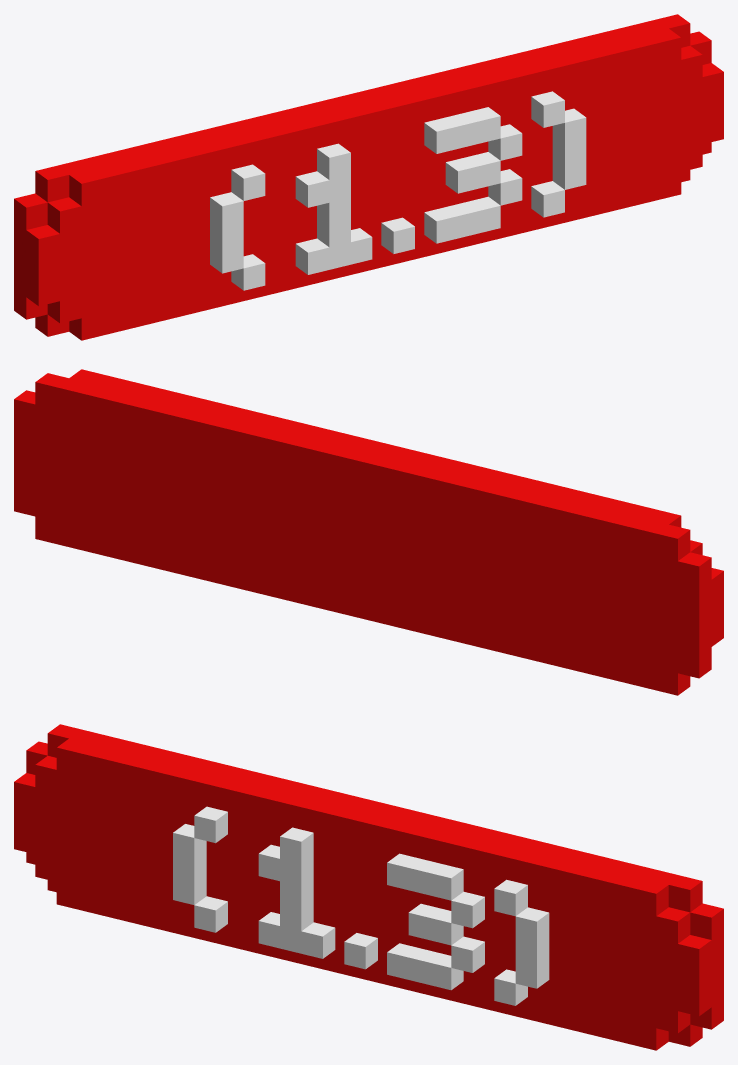
Rendered from lvl1.3.obj.
The picture shows the model from 3 angles, top to bottom: view 1: azimuth 30°, elevation 25°; view 2: azimuth 150°, elevation 25°; view 3: azimuth 330°, elevation 25°; orthographic projection.
Parts seen in each view (by area): view 1: lvl1.3; view 2: lvl1.3; view 3: lvl1.3.
Boxes of the visible parts, x1,y1,x2,y2 form: lvl1.3: (14,14,723,340); lvl1.3: (14,369,723,695); lvl1.3: (14,724,723,1050).
Size of the model in its own units: 32 by 7 by 3.
Materials: 1 (1 with a texture image).
